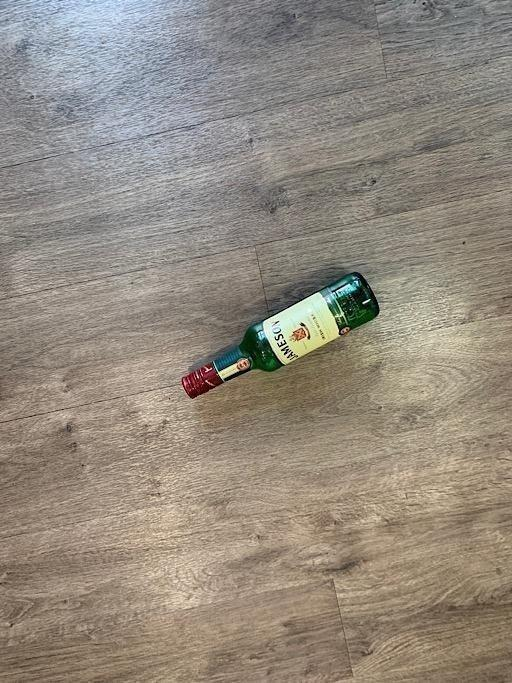bottle-glass: (179, 271, 379, 399)
